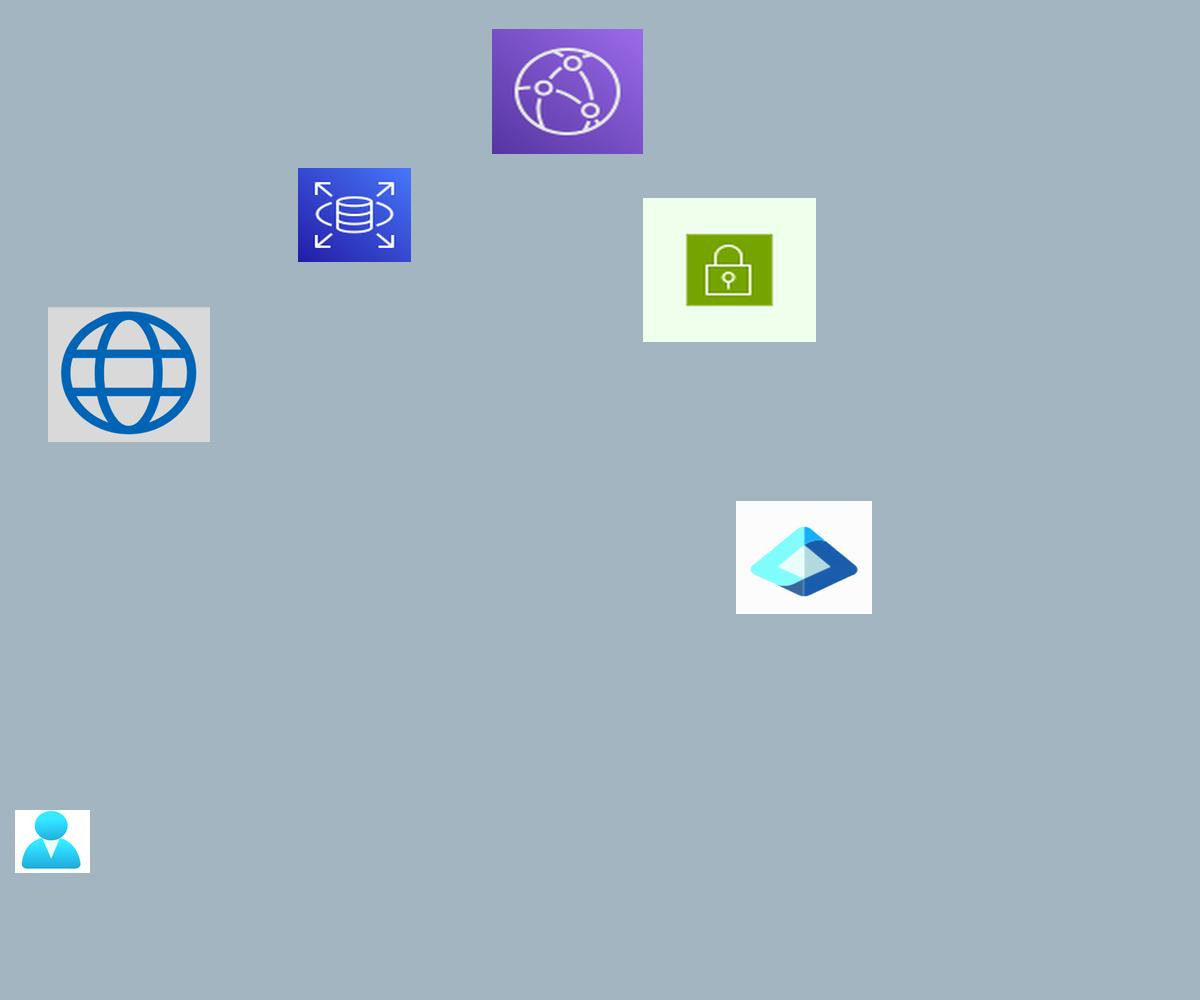AWS-CloudFront: (492, 29, 643, 154)
AWS-Public-subnet: (643, 198, 816, 342)
AWS-RDS: (298, 168, 411, 262)
Azure_http: (48, 307, 210, 442)
Azure_microsoft_entra: (736, 501, 872, 614)
Azure_users: (15, 810, 90, 873)
